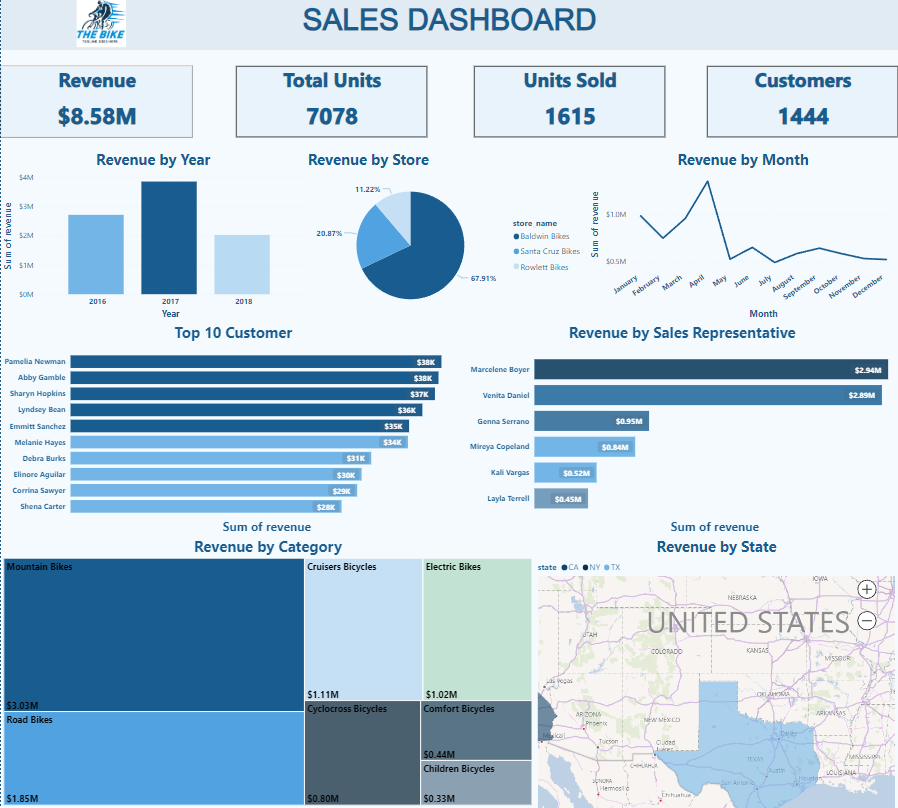

The dashboard page shown, as its layout file describes it:
{"tool":"powerbi","page":{"name":"OVERVIEW SALES","canvas":[1600,1450],"ordinal":0},"visuals":[{"type":"columnChart","title":"Revenue by Year","fields":{"Y":["Fact_Sales.revenue"],"Category":["Fact_Sales.order_date.Variation.Date Hierarchy.Year"]},"box":[0,274.2,542.4,307.6],"z":0},{"type":"lineChart","title":"Revenue by Month","fields":{"Category":["Fact_Sales.order_date.Variation.Date Hierarchy.Month"],"Y":["Fact_Sales.revenue"]},"box":[1047,274.2,553,307.6],"z":1000},{"type":"filledMap","title":"Revenue by State ","fields":{"Category":["Fact_Sales.state"],"Series":["Fact_Sales.state"]},"box":[952.4,964.9,647.4,535.1],"z":2000},{"type":"pieChart","title":"Revenue by Store","fields":{"Category":["Fact_Sales.store_name"],"Y":["Fact_Sales.revenue"]},"box":[542.4,274.2,504.5,309.1],"z":3000},{"type":"treemap","title":"Revenue by Category","fields":{"Group":["Fact_Sales.category_name"],"Values":["Fact_Sales.revenue"]},"box":[0,964.9,952.4,485.1],"z":4000},{"type":"barChart","title":"Top 10 Customer","fields":{"Category":["Fact_Sales.customer"],"Y":["Fact_Sales.revenue"]},"box":[0,583.3,828.8,381.8],"z":5000},{"type":"barChart","title":"Revenue by Sales Representative","fields":{"Y":["Fact_Sales.revenue"],"Category":["Fact_Sales.sales_rep"]},"box":[828.8,583.3,771.2,381.8],"z":6000},{"type":"textbox","box":[0,0,1600,98.5],"z":7000},{"type":"card","title":"Revenue","fields":{"Values":["Fact_Sales.revenue"]},"box":[0,125.8,340.9,127.3],"z":8000},{"type":"card","title":"Total Units","fields":{"Values":["Fact_Sales.total_units"]},"box":[419.7,125.8,340.9,127.3],"z":9000},{"type":"card","title":"Units Sold","fields":{"Values":["Fact_Sales.order_id"]},"box":[843.9,125.8,340.9,127.3],"z":10000},{"type":"card","title":"Customers","fields":{"Values":["Fact_Sales.customer"]},"box":[1259.1,125.8,340.9,127.3],"z":11000},{"type":"image","box":[0,0,357.6,98.5],"z":12000}]}

Visuals, with their boxes in screenshot pixels (x1, y1, x2, y2), scaled from the page's 1600x1450 canvas onto the 898x808 screenshot:
"Revenue by Year" columnChart: Rect(0, 153, 304, 324)
"Revenue by Month" lineChart: Rect(588, 153, 897, 324)
"Revenue by State " filledMap: Rect(535, 538, 897, 807)
"Revenue by Store" pieChart: Rect(304, 153, 588, 325)
"Revenue by Category" treemap: Rect(0, 538, 535, 807)
"Top 10 Customer" barChart: Rect(0, 325, 465, 538)
"Revenue by Sales Representative" barChart: Rect(465, 325, 897, 538)
textbox: Rect(0, 0, 897, 55)
"Revenue" card: Rect(0, 70, 191, 141)
"Total Units" card: Rect(236, 70, 427, 141)
"Units Sold" card: Rect(474, 70, 665, 141)
"Customers" card: Rect(707, 70, 897, 141)
image: Rect(0, 0, 201, 55)
